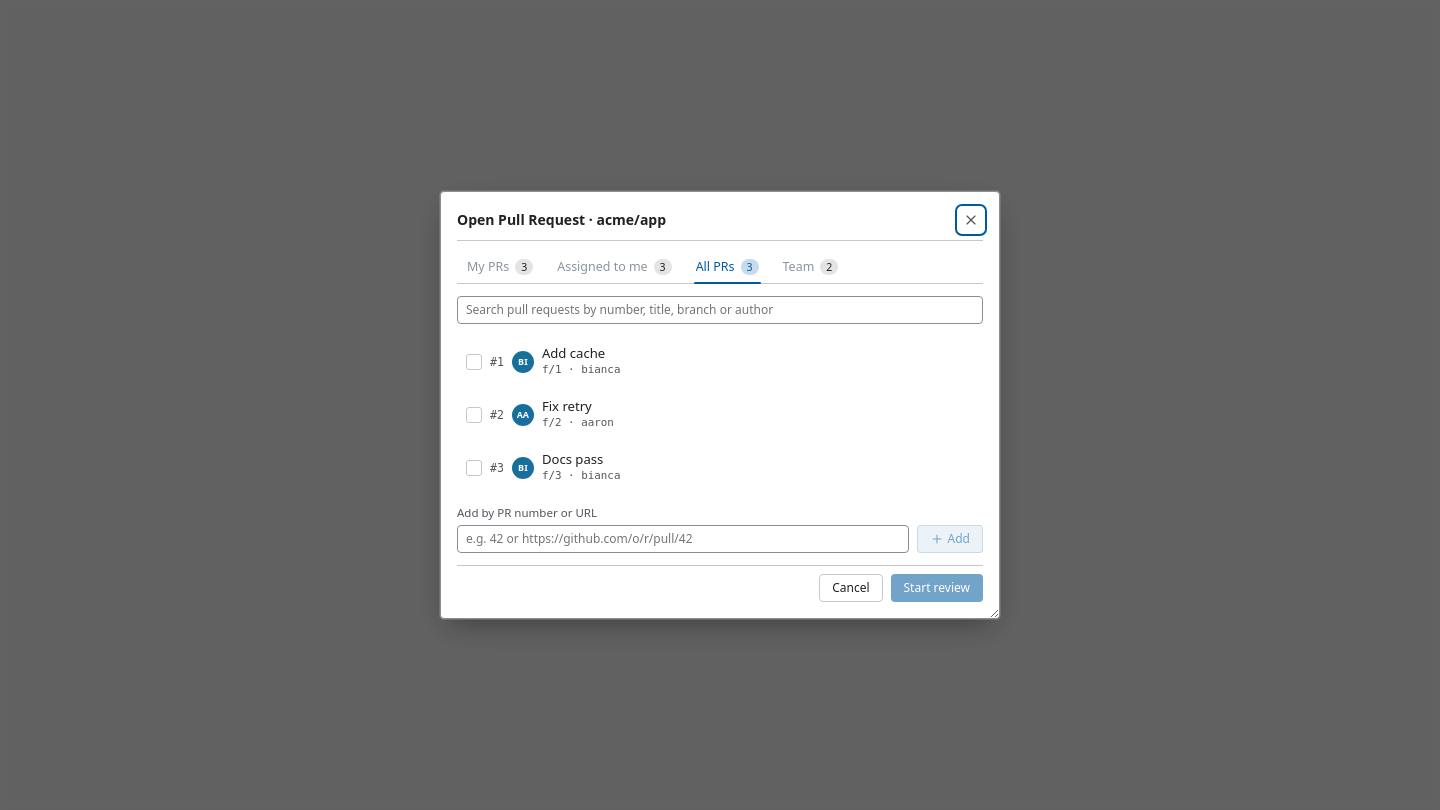
Test: PrReviewPicker selection › saves a team roster that filters the Team tab and persists to storage
Step 1. Click the tab "Team 2" → (810, 267), box [772,253,848,281]
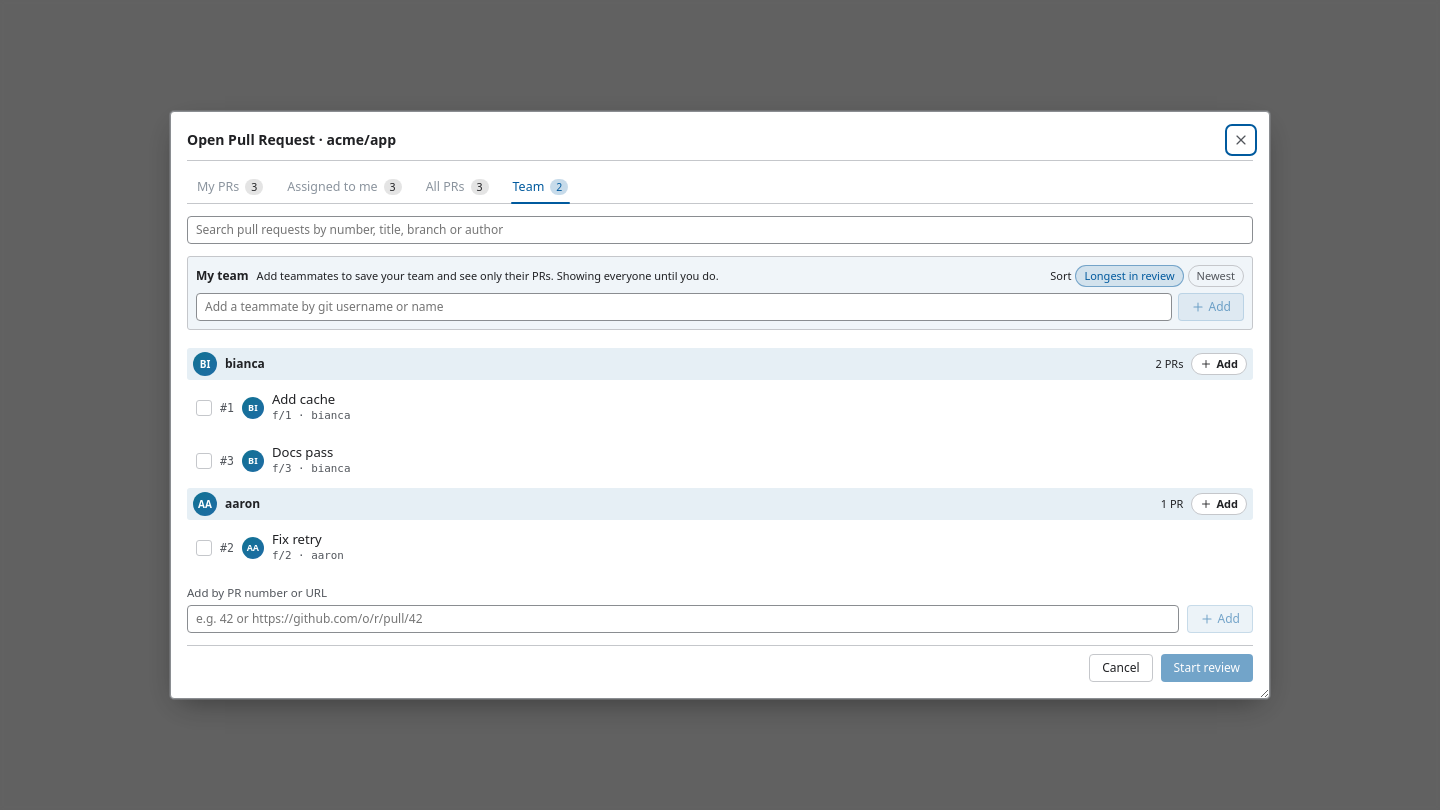
Expected: the text "aaron" is shown, [225,495,260,512]
Expected: the text "bianca" is shown, [225,355,265,372]
Add aaron to the team from his group header.
Step 2. Click the 3rd button titled "Add aaron to my team" → (1219, 504), box [1192,493,1247,515]
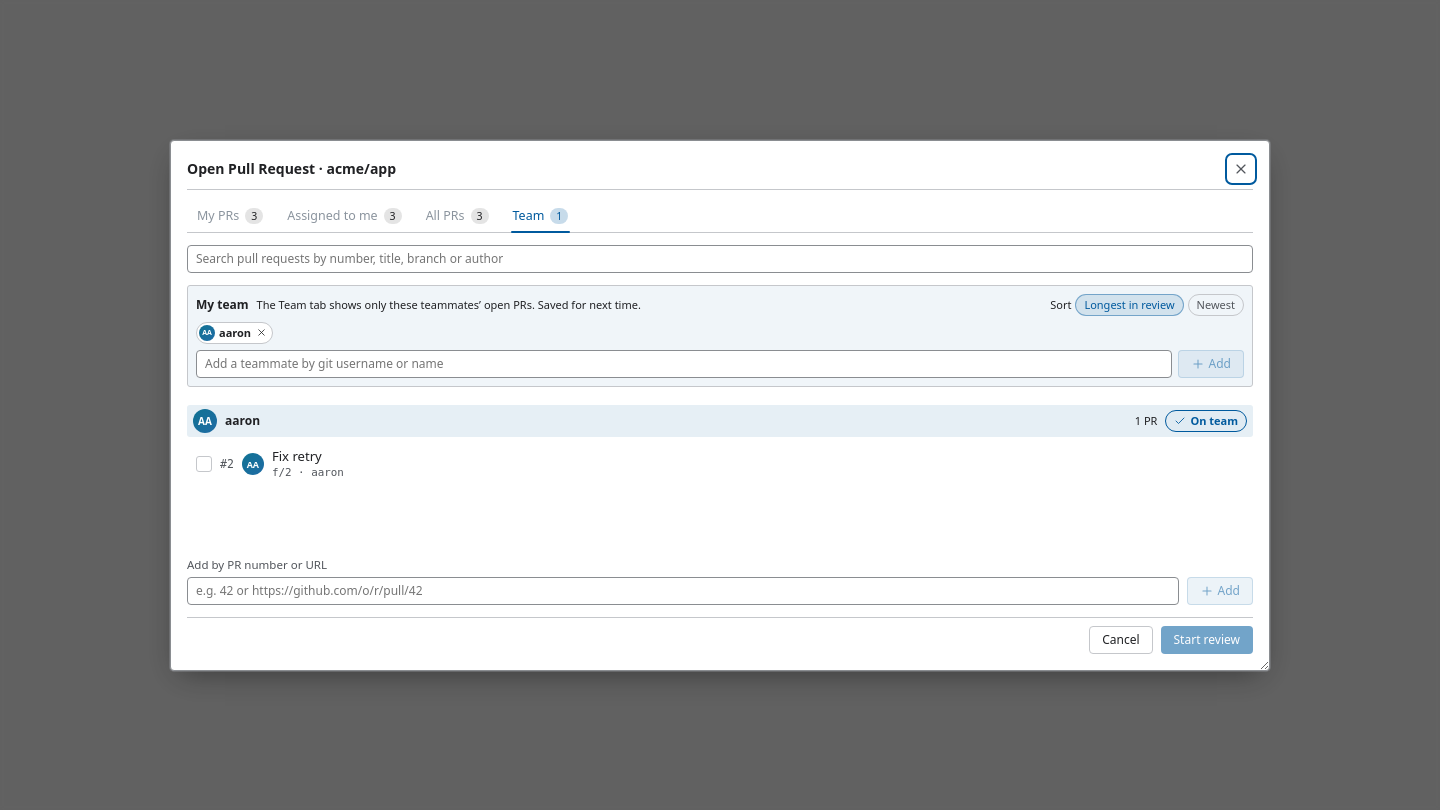
Expected: the text "aaron" below "My team" is shown, [219,324,251,340]
Expected: the text "bianca" is gone
Removing aaron via the roster chip restores the everyone view.
Step 3. Click the button named "Remove aaron from my team" → (262, 332), box [255,326,268,339]
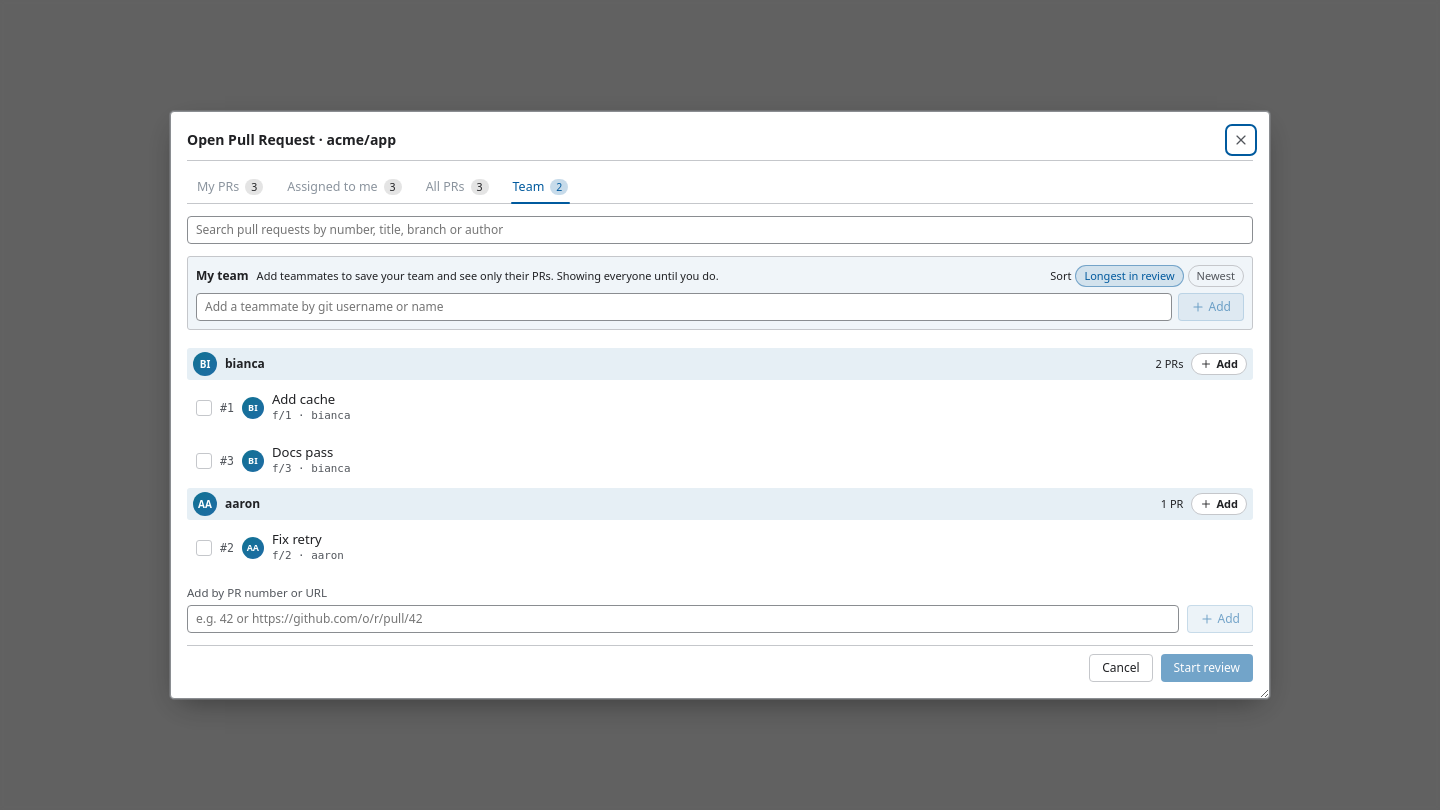
Expected: the text "bianca" is shown, [225,355,265,372]
